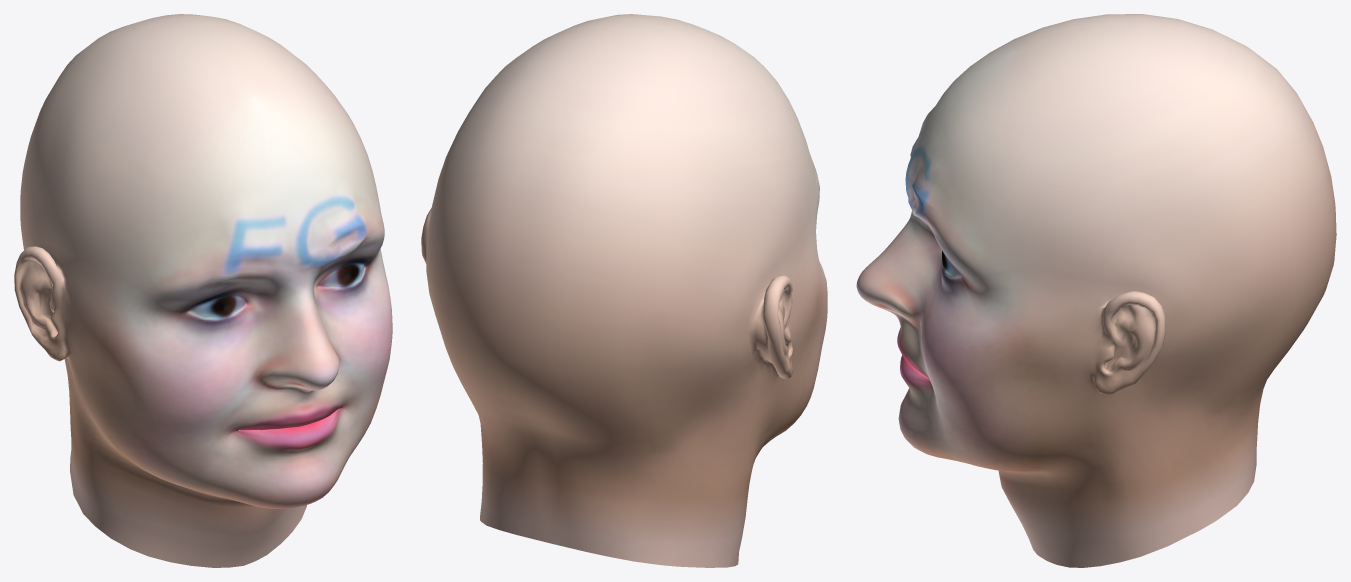
The model's file is avg_anyrace_female_11.obj.
3 renders of one model, left to right at view 1: azimuth 30°, elevation 25°; view 2: azimuth 150°, elevation 25°; view 3: azimuth 270°, elevation 25°, orthographic. The views are drawn at different scales.
Visible parts, largest first — view 1: HeadHires; view 2: HeadHires; view 3: HeadHires.
Part boxes in pixels (x1=…): HeadHires: x1=14, y1=14, x2=392, y2=567; HeadHires: x1=421, y1=14, x2=827, y2=567; HeadHires: x1=856, y1=14, x2=1336, y2=567.
Bounding box in the file's own units: 198 × 283 × 239.
Materials: 1 (1 with a texture image).
